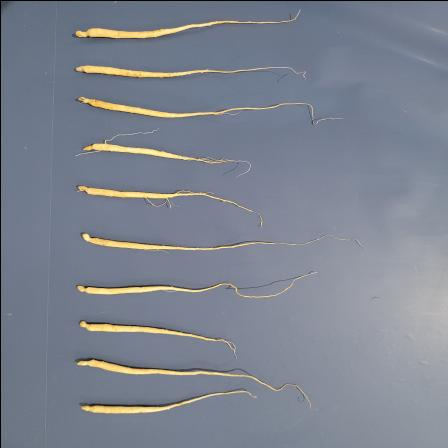Ginseng: (72, 357, 312, 397), (71, 183, 263, 228), (70, 94, 342, 125), (71, 268, 320, 298), (70, 7, 301, 38), (76, 230, 366, 252), (79, 141, 251, 178), (76, 318, 238, 356), (76, 388, 258, 414), (66, 64, 308, 78)
head: (73, 27, 94, 37), (79, 231, 95, 243), (72, 64, 91, 74), (76, 95, 94, 105), (74, 284, 92, 294), (76, 184, 92, 195), (78, 318, 92, 330), (80, 142, 97, 150), (79, 404, 96, 412), (75, 360, 94, 366)
